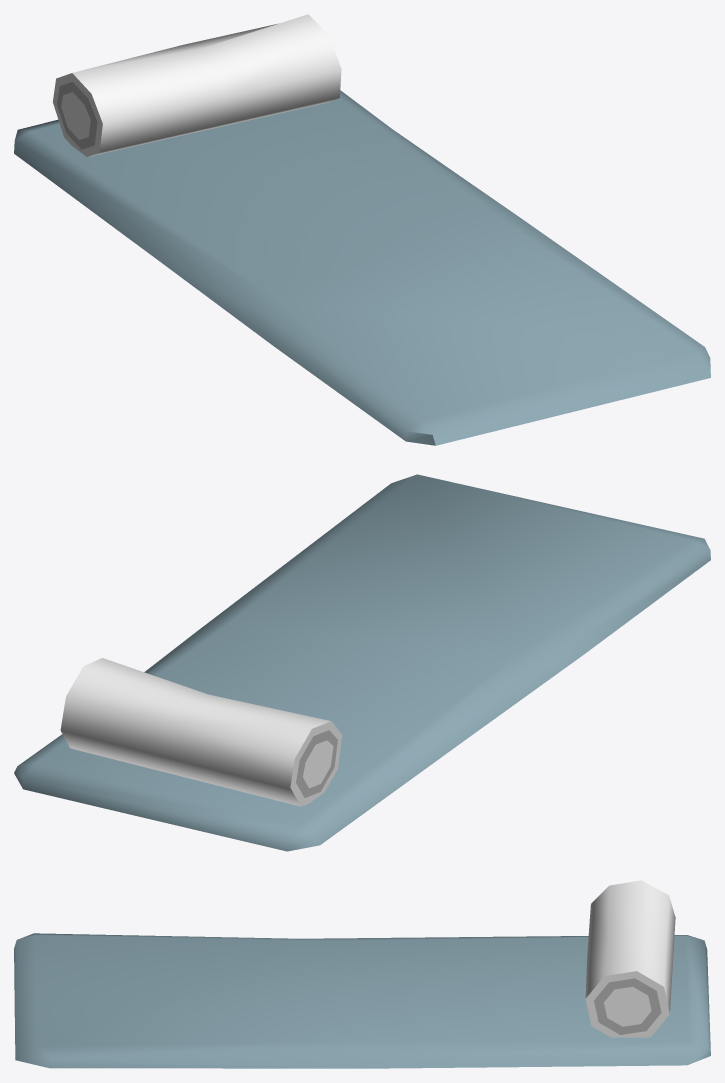
Rendered from bed_012.glb.
3 views of the same model, one above another, from view 1: azimuth 30°, elevation 25°; view 2: azimuth 150°, elevation 25°; view 3: azimuth 270°, elevation 25° (orthographic). The views are drawn at different scales.
Visible parts, largest first — view 1: bed_012; view 2: bed_012; view 3: bed_012.
Part boxes in pixels (left/top/right/bottom): bed_012: left=14, top=14, right=710, bottom=445; bed_012: left=14, top=474, right=710, bottom=851; bed_012: left=14, top=880, right=710, bottom=1068.
Size of the model in its own units: 0.7283 by 0.2087 by 1.68.
1 material, 1 textured.
